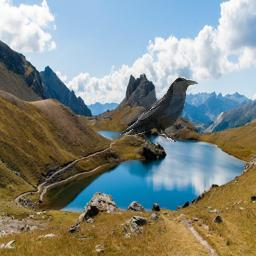Crow: (120, 77, 198, 142)
